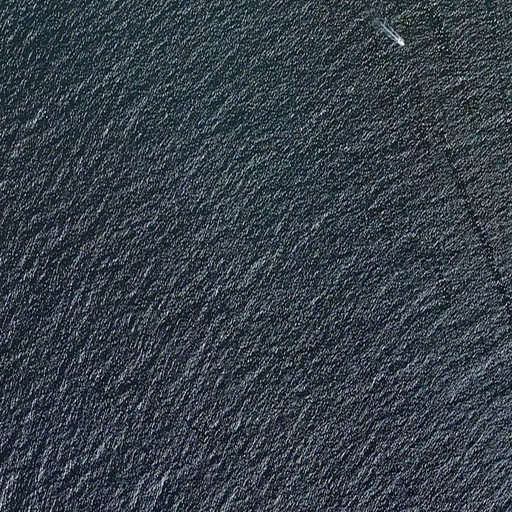ship: (394, 35, 407, 47)
